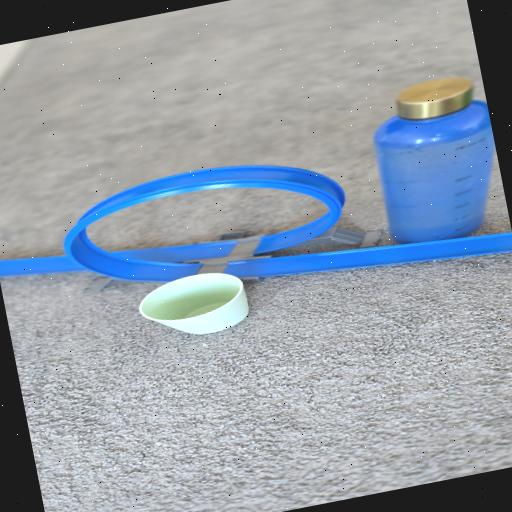bottle: (382, 64, 512, 251)
